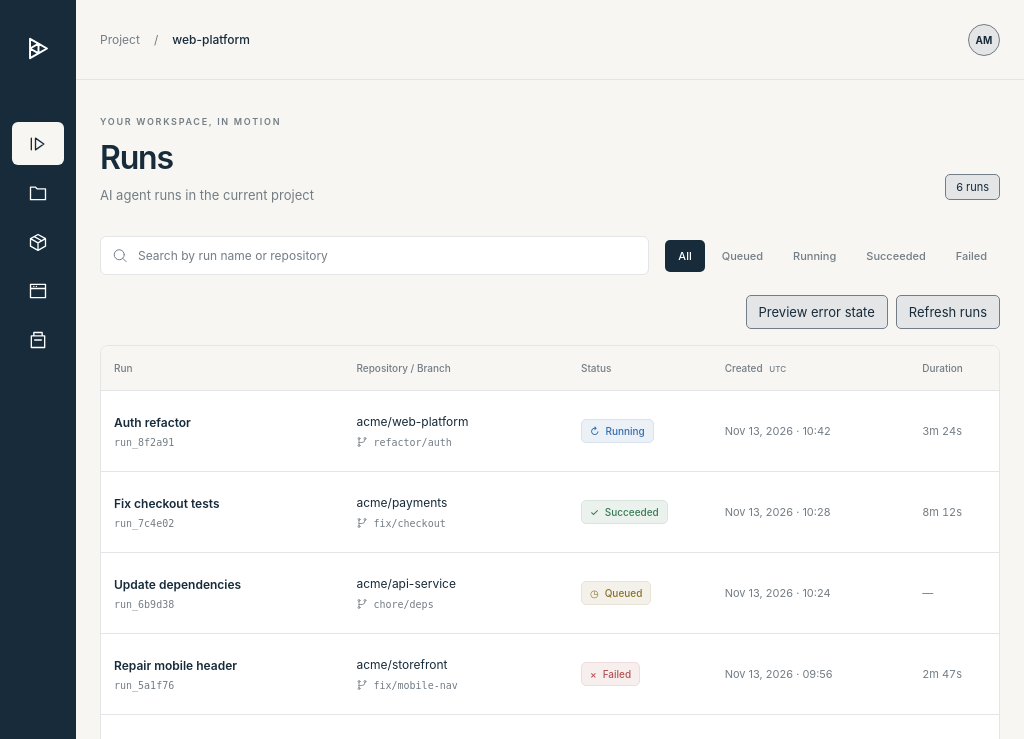
Test: runs page › filters runs by status
Click the button "Succeeded" at (896, 256), box [853, 240, 939, 272]
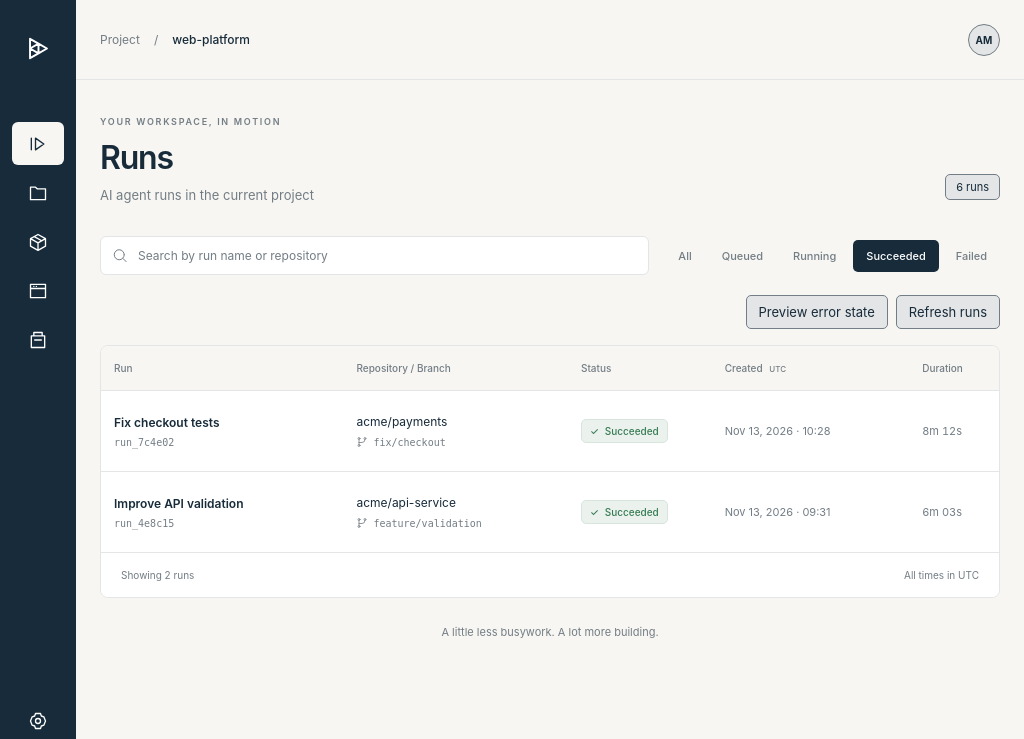
Expected: the button "Fix checkout tests" is shown, [114, 415, 220, 430]
Result: the number of rows is 3 at [101, 346, 999, 391]; [101, 391, 999, 472]; [101, 472, 999, 552]
Result: the button "Auth refactor" is gone
